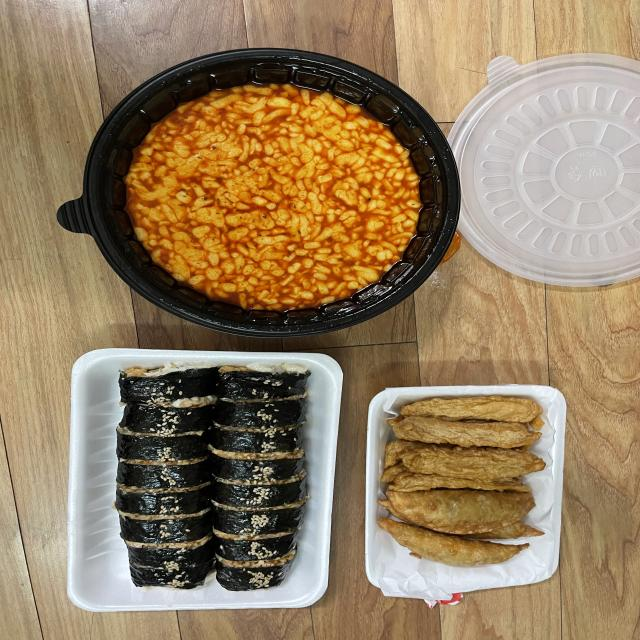Bowl: (76, 47, 462, 339)
Plate: (67, 348, 343, 612), (446, 52, 640, 287), (364, 384, 566, 599)
